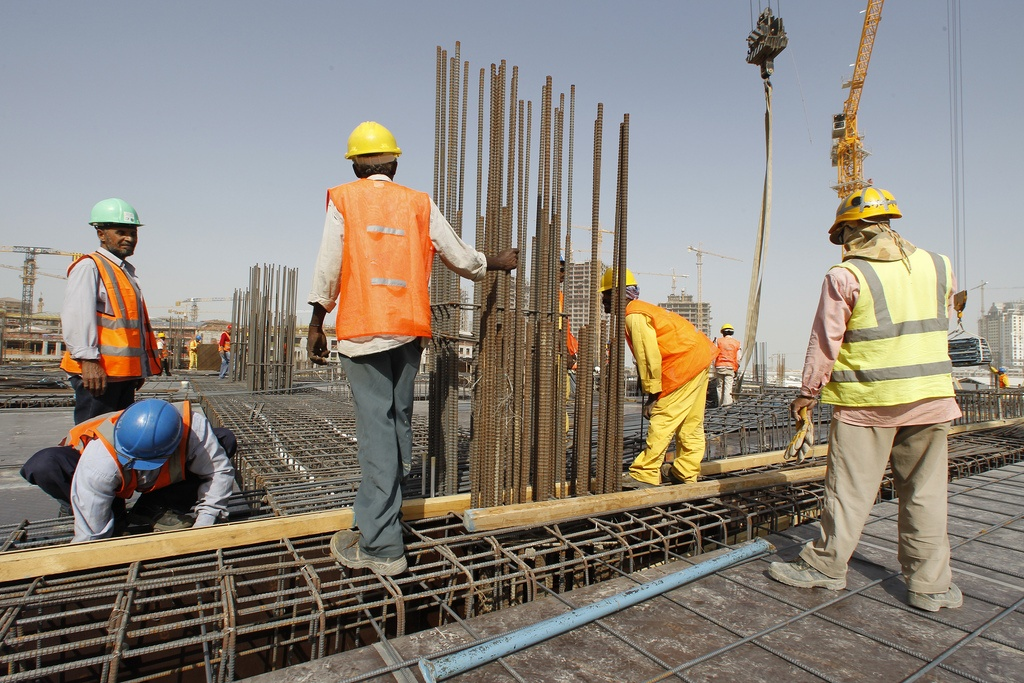blue: (114, 400, 182, 471), (997, 367, 1004, 375), (195, 335, 201, 343)
red: (227, 323, 233, 333)
white: (90, 199, 140, 257)
yellow: (829, 188, 901, 252), (345, 120, 400, 178), (596, 264, 637, 314), (719, 322, 735, 337), (158, 332, 164, 341)
